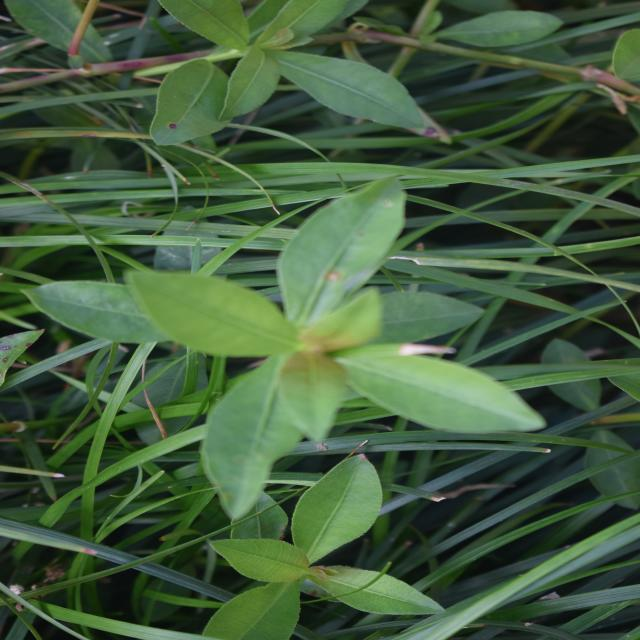Alligatorweed: (0, 202, 200, 442)
